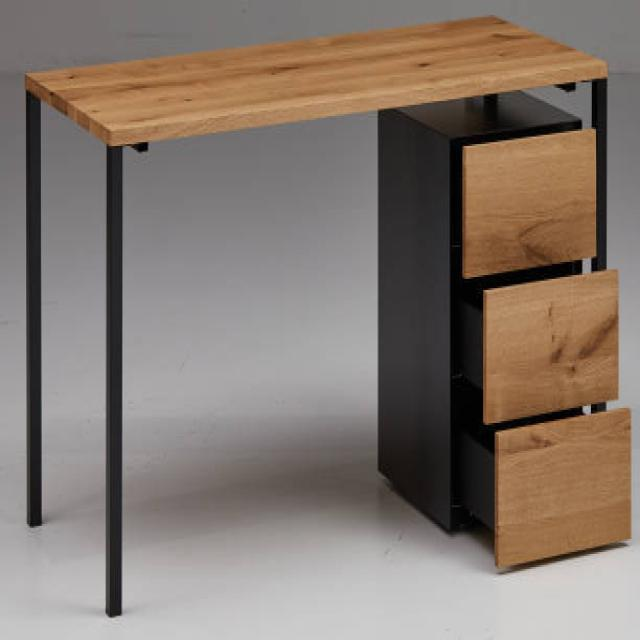table: (22, 13, 626, 616)
